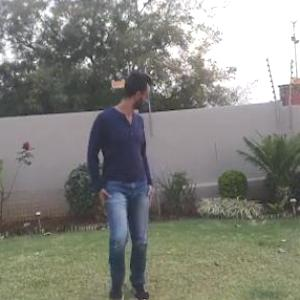follow: (82, 54, 167, 290)
